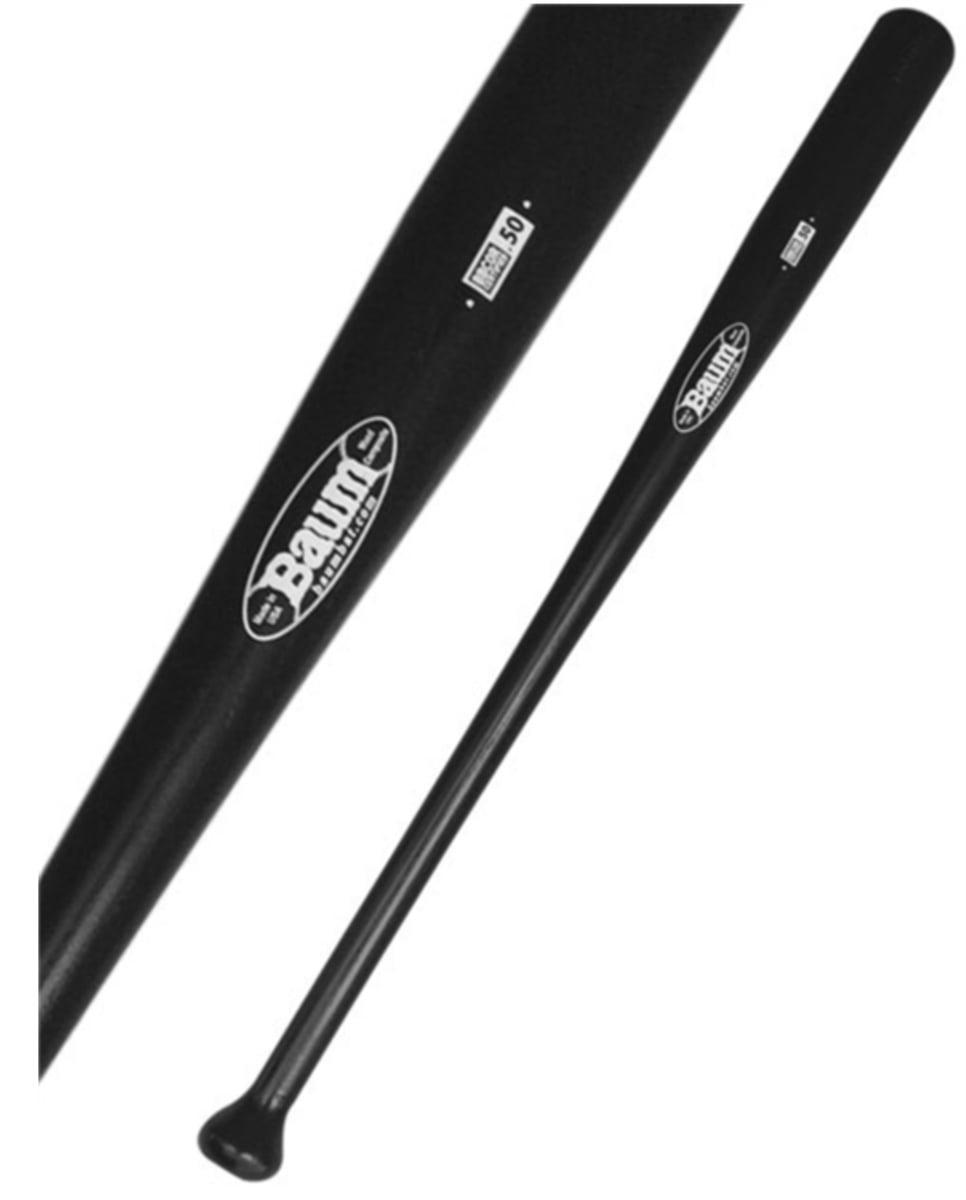Baseball-Bat: (190, 2, 962, 1182), (38, 0, 738, 1088)
